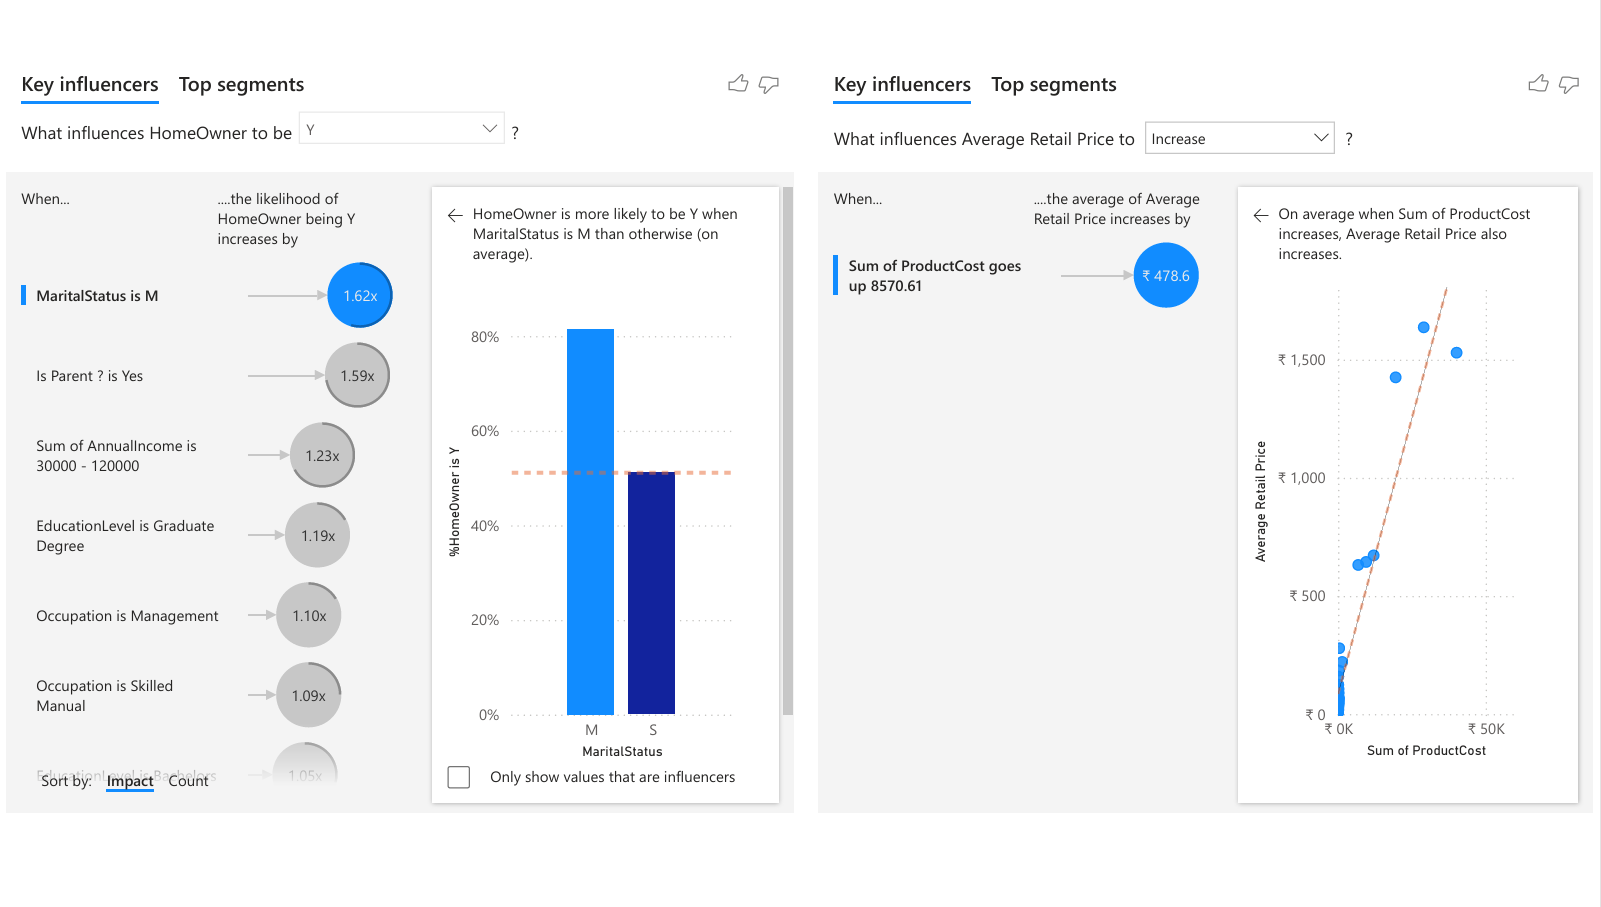

The dashboard page shown, as its layout file describes it:
{"tool":"powerbi","page":{"name":"Key Influencers","canvas":[1280,720],"ordinal":6},"visuals":[{"type":"keyDriversVisual","fields":{"Target":["Customer Lookup.HomeOwner"],"ExplainBy":["Sum(Customer Lookup.AnnualIncome)","Customer Lookup.EducationLevel","Customer Lookup.Is Parent ?","Customer Lookup.MaritalStatus","Customer Lookup.Occupation"]},"box":[0,39.1,639.8,613.4],"z":0},{"type":"keyDriversVisual","fields":{"ExplainBy":["Sum(Product Lookup.ProductCost)"],"Details":["Product Subcategories Lookup.SubcategoryName"],"Target":["Measure Table.Average Retail Price"]},"box":[650,39,630,613],"z":1000}]}

Visuals, with their boxes in screenshot pixels (x1, y1, x2, y2), scaled from the page's 1280x720 canvas onto the 1601x907 screenshot:
keyDriversVisual - Customer Lookup.HomeOwner x Sum(Customer Lookup.AnnualIncome): x1=0 y1=49 x2=800 y2=822
keyDriversVisual - Sum(Product Lookup.ProductCost) x Product Subcategories Lookup.SubcategoryName: x1=813 y1=49 x2=1600 y2=821
